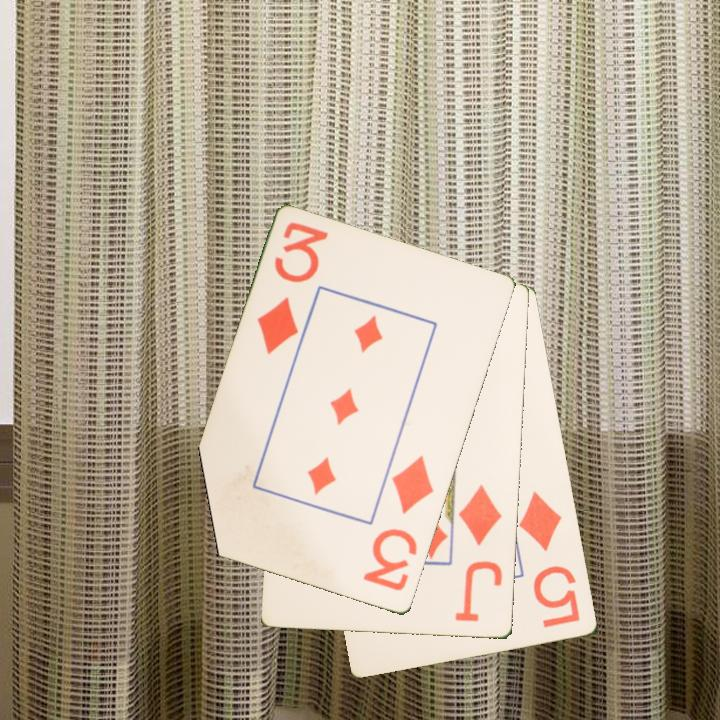3d: (360, 452, 437, 595), (254, 219, 332, 358)
5d: (516, 487, 583, 631)
Jd: (451, 482, 506, 626)
